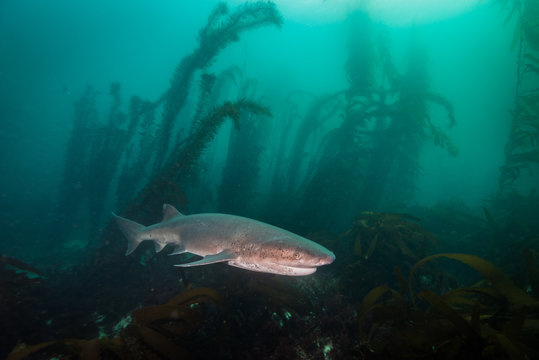Sevengill Shark: (82, 190, 347, 298)
